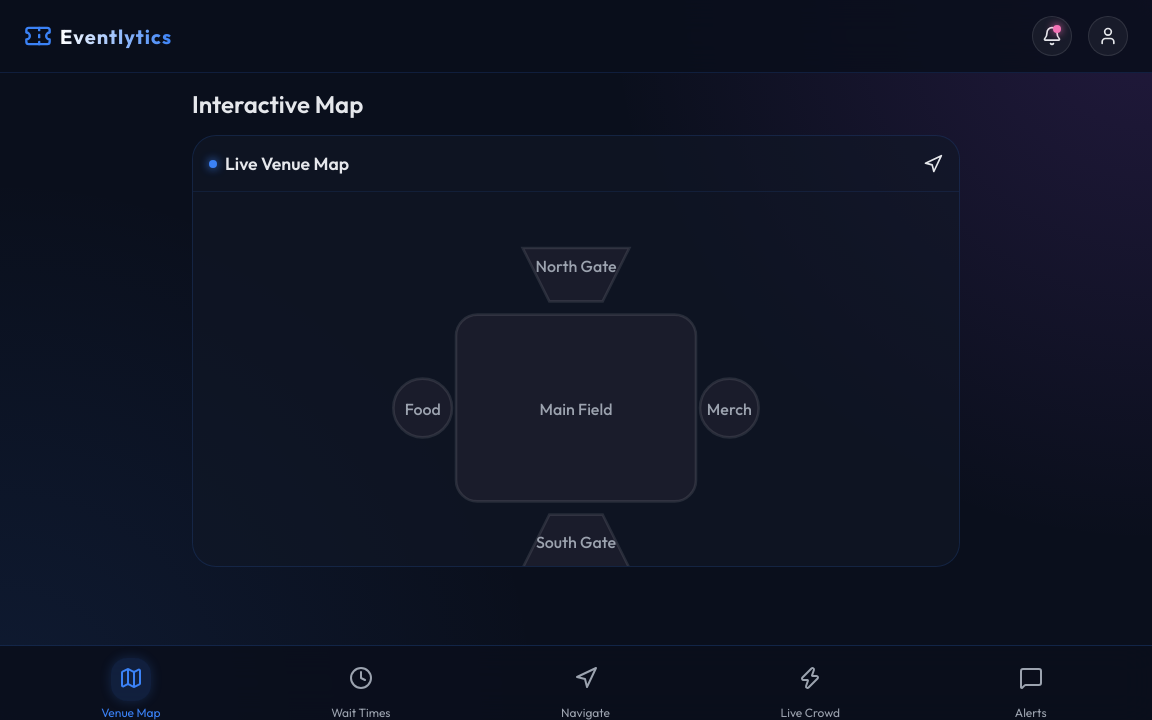
Scenario: App Integration › handles Login flow
The image size is (1152, 720).
Click the button named "Login" at (1108, 36), box 1088,16 -> 1128,56
(page scrolled)
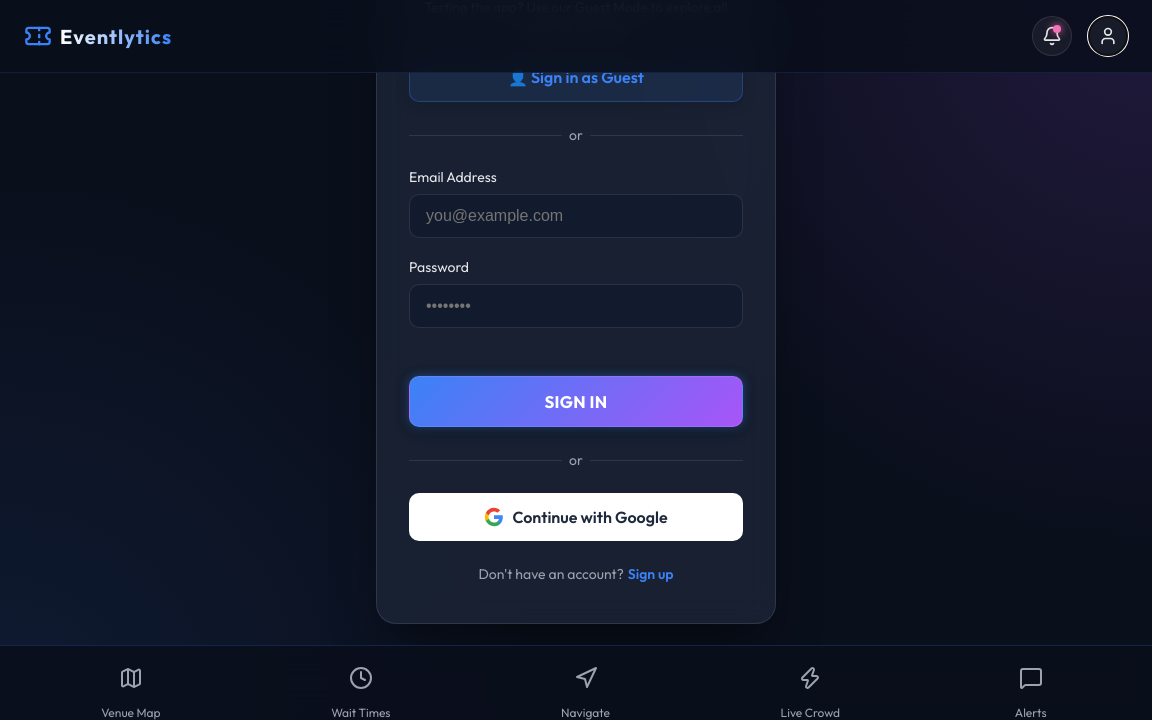
Expected: the button "Continue with Google" is shown, 409,493 -> 743,541
